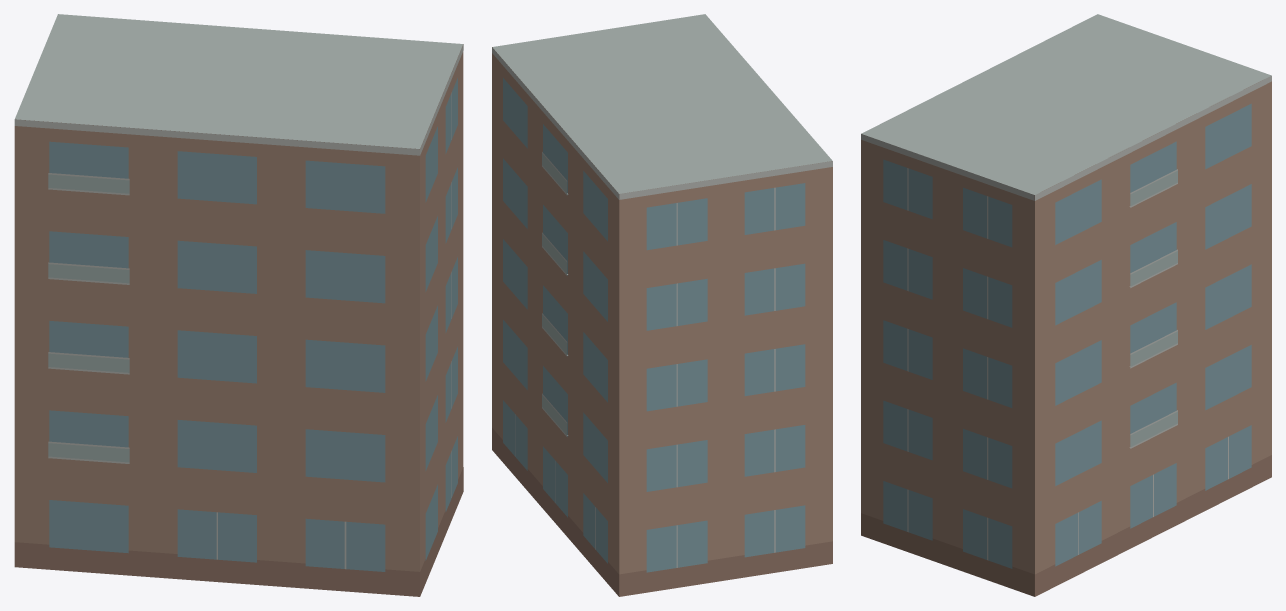
File: survey-upis-32842801.glb
3 renders of one model, left to right at view 1: azimuth 30°, elevation 25°; view 2: azimuth 150°, elevation 25°; view 3: azimuth 270°, elevation 25°, orthographic. The views are drawn at different scales.
Parts seen in each view (by area): view 1: survey-upis-32842801.tmp; view 2: survey-upis-32842801.tmp; view 3: survey-upis-32842801.tmp.
Part boxes in pixels (left/top/right/bottom): survey-upis-32842801.tmp: left=14, top=14, right=463, bottom=596; survey-upis-32842801.tmp: left=492, top=14, right=832, bottom=596; survey-upis-32842801.tmp: left=861, top=14, right=1271, bottom=596.
Bounding box in the file's own units: 15.96 × 16.5 × 15.3.
